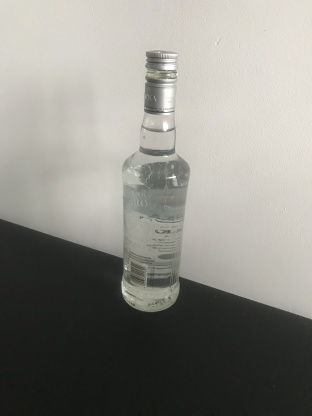nakretka: (142, 48, 179, 115), (143, 48, 179, 116)
